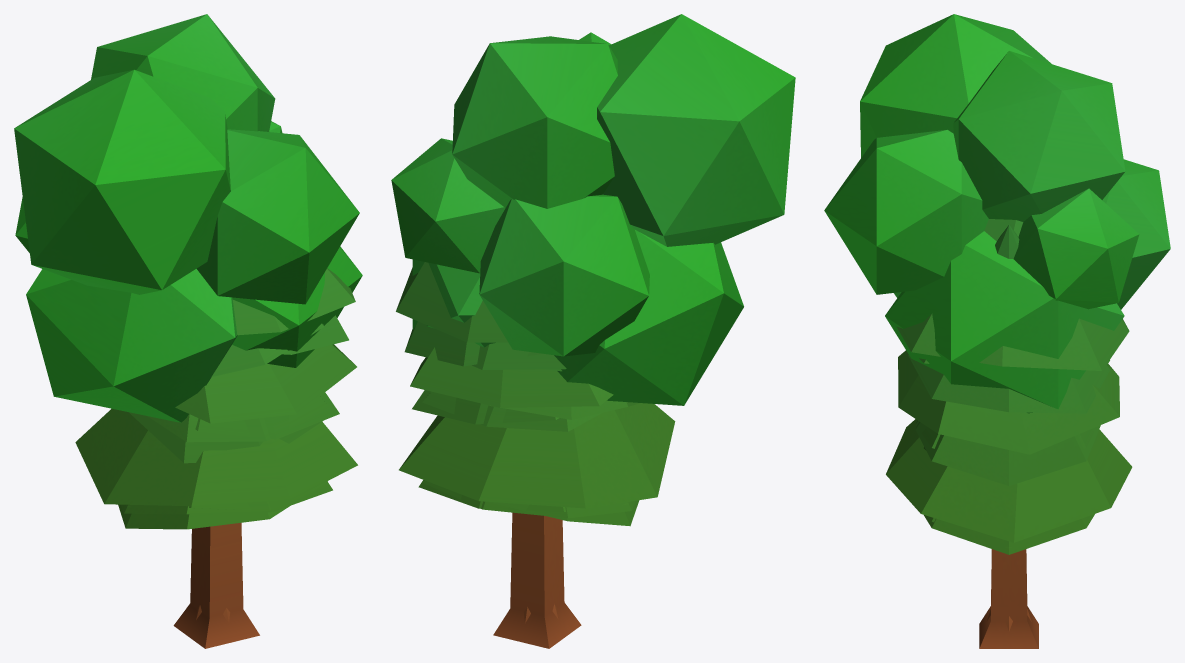
The model's file is Tree.fbx.
The picture shows the model from 3 angles, left to right: view 1: azimuth 30°, elevation 25°; view 2: azimuth 150°, elevation 25°; view 3: azimuth 270°, elevation 25°; orthographic projection. The views are drawn at different scales.
Visible parts, largest first — view 1: Tree; view 2: Tree; view 3: Tree.
Boxes of the visible parts, x1,y1,x2,y2 form: Tree: (14,14,362,648); Tree: (391,14,795,648); Tree: (824,14,1170,648).
Size of the model in its own units: 257 by 451 by 248.
Materials: 1 (1 with a texture image).
